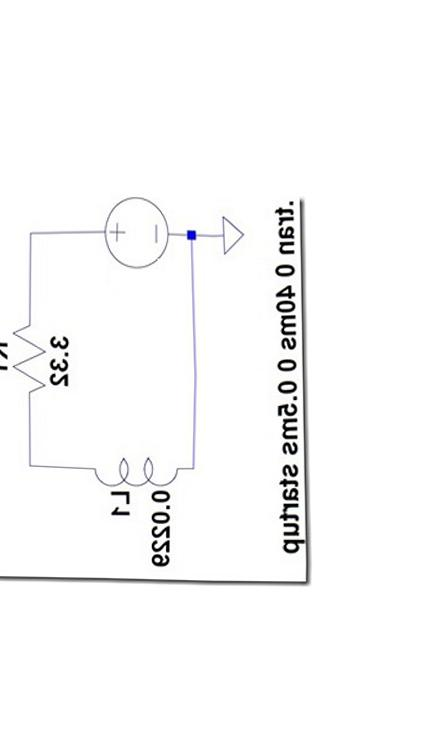Battery: (81, 171, 187, 296)
